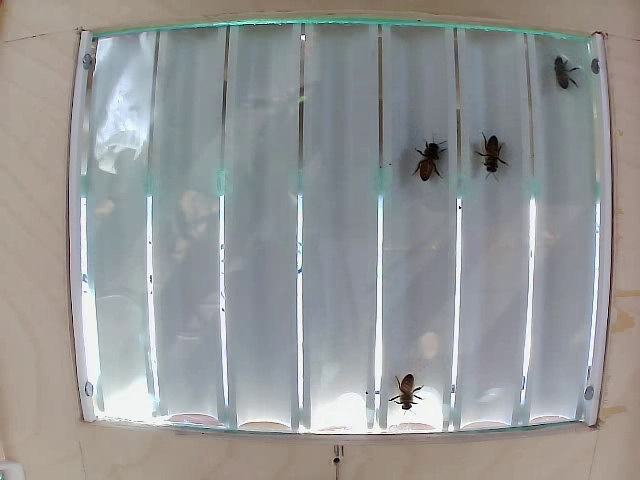bee: (547, 49, 586, 94), (473, 127, 505, 179), (410, 137, 440, 180), (394, 366, 423, 406)
